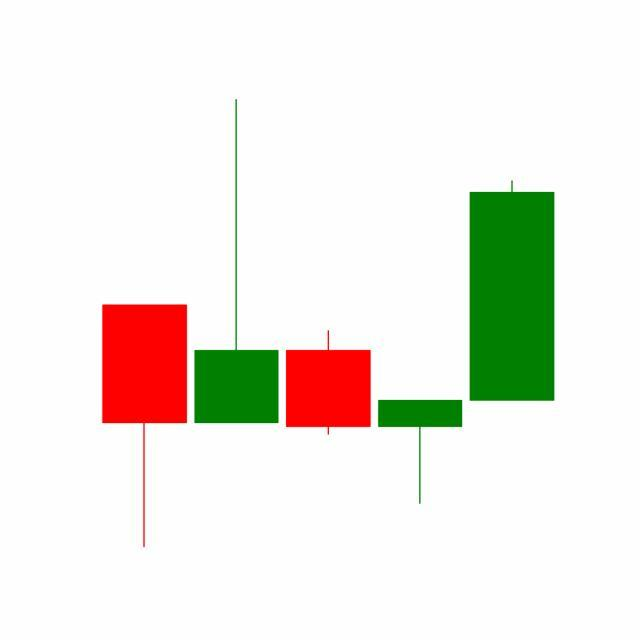Marubozu: (466, 178, 559, 403)
